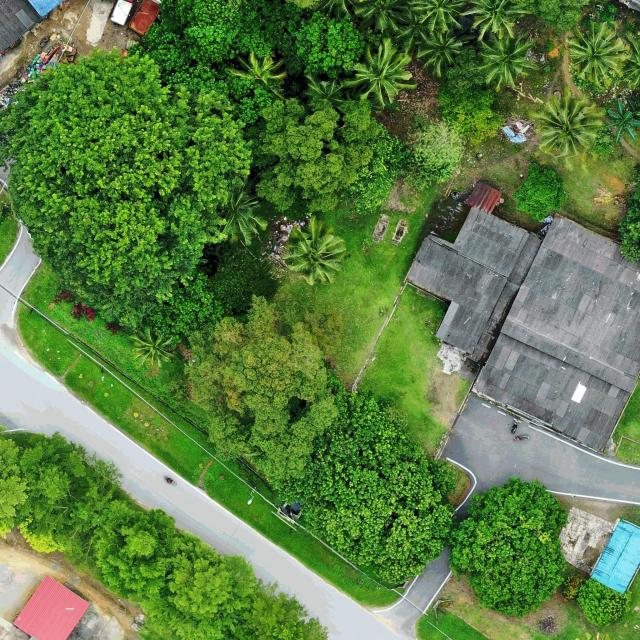0: (527, 87, 606, 157), (342, 38, 414, 108), (281, 216, 347, 286), (564, 20, 632, 86), (478, 28, 540, 92), (224, 48, 288, 104), (214, 188, 272, 245), (415, 23, 465, 77), (128, 324, 181, 369), (469, 0, 525, 40), (407, 0, 475, 32), (355, 0, 411, 34)
banana_tree2: (602, 97, 640, 144)
tree: (0, 46, 255, 328), (266, 384, 458, 586), (186, 292, 342, 488), (140, 0, 304, 130), (448, 475, 570, 621), (254, 96, 398, 212), (15, 431, 124, 555), (137, 529, 257, 640), (90, 501, 178, 608), (435, 44, 503, 148), (400, 116, 468, 196), (294, 9, 366, 72), (510, 160, 568, 223), (574, 578, 628, 628)
